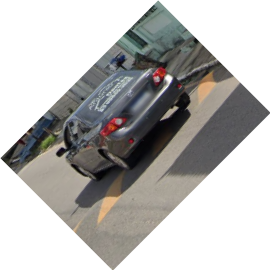car: (61, 67, 191, 180)
